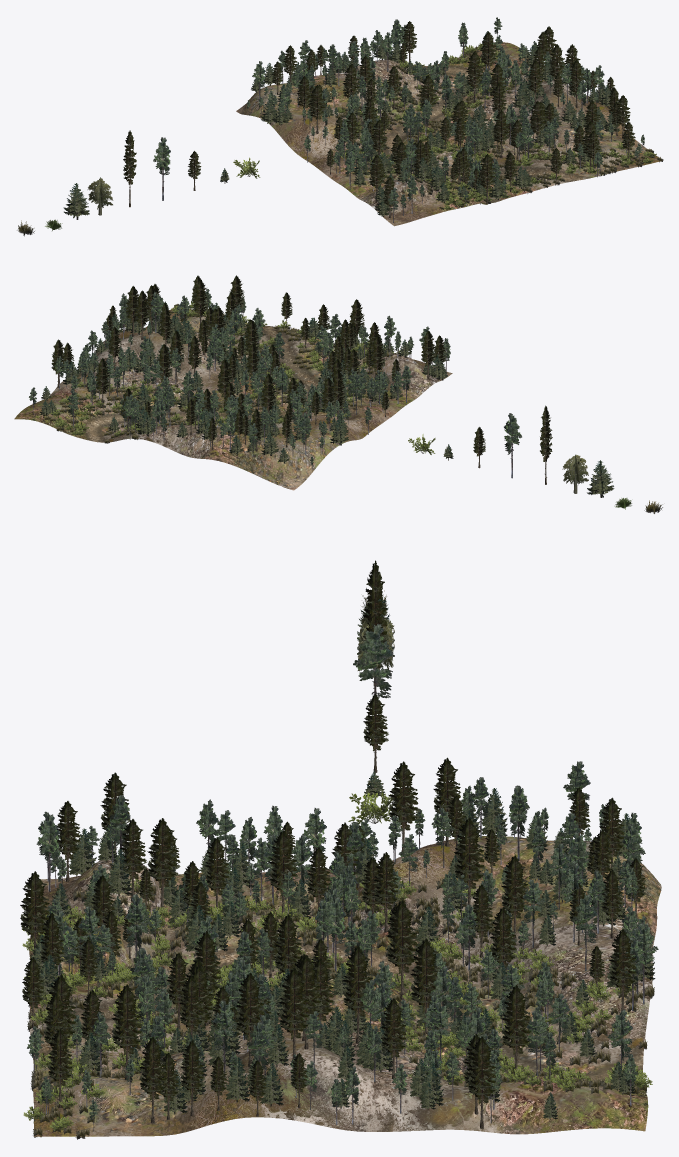
Rendered from forest.gltf.
3 views of the same model, one above another, from view 1: azimuth 30°, elevation 25°; view 2: azimuth 150°, elevation 25°; view 3: azimuth 270°, elevation 25° (orthographic). The views are drawn at different scales.
Visible parts, largest first — view 1: Plane.002, Plane.006, Cylinder.001, Plane.005, 05ade0e713892be558511d706fa6c547-no-bg-preview (carve.photos, Cylinder.058, Cylinder.034, Cylinder.007, Cylinder.049, Cylinder.026, Cylinder.070, Cylinder.004 (+8 smaller); view 2: Plane.002, Plane.006, Plane.005, Cylinder.001, 05ade0e713892be558511d706fa6c547-no-bg-preview (carve.photos, Cylinder.026, Cylinder.070, Cylinder.071, Cylinder.073, Cylinder.004, Cylinder.012, Cylinder.047 (+1 smaller); view 3: Plane.002, 05ade0e713892be558511d706fa6c547-no-bg-preview (carve.photos (×2), Cylinder.047, Cylinder.077, Cylinder.026, Cylinder.071, Cylinder.012, Cylinder.007, Cylinder.070, Cylinder.085, Cylinder.034, Cylinder.058 (+27 smaller).
Part boxes in pixels (box(x1,y1,x2,y2)): Plane.002: box(236, 42, 662, 226); Plane.006: box(87, 177, 113, 215); Cylinder.001: box(123, 130, 136, 207); Plane.005: box(63, 183, 89, 219); 05ade0e713892be558511d706fa6c547-no-bg-preview (carve.photos: box(153, 137, 170, 200); Cylinder.058: box(466, 51, 483, 102); Cylinder.034: box(479, 154, 495, 203); Cylinder.007: box(309, 85, 325, 133); Cylinder.049: box(493, 110, 509, 158); Cylinder.026: box(343, 64, 359, 98); Cylinder.070: box(480, 31, 496, 72); Cylinder.004: box(369, 155, 384, 202); Plane.002: box(14, 307, 452, 490); Plane.006: box(562, 454, 588, 493); Plane.005: box(587, 460, 614, 497); Cylinder.001: box(540, 405, 552, 484); 05ade0e713892be558511d706fa6c547-no-bg-preview (carve.photos: box(504, 413, 521, 478); Cylinder.026: box(261, 373, 276, 414); Cylinder.070: box(95, 358, 110, 407); Cylinder.071: box(193, 279, 208, 328); Cylinder.073: box(135, 290, 150, 339); Cylinder.004: box(421, 330, 435, 379); Cylinder.012: box(370, 335, 385, 382); Cylinder.047: box(217, 359, 232, 411); Plane.002: box(29, 836, 661, 1136); 05ade0e713892be558511d706fa6c547-no-bg-preview (carve.photos (×2): box(125, 623, 393, 957); Cylinder.047: box(386, 900, 418, 1000); Cylinder.077: box(279, 967, 309, 1059); Cylinder.026: box(454, 817, 486, 904); Cylinder.071: box(111, 984, 143, 1080); Cylinder.012: box(147, 818, 178, 910); Cylinder.007: box(388, 761, 420, 857); Cylinder.070: box(501, 985, 532, 1074); Cylinder.085: box(467, 1036, 497, 1129); Cylinder.034: box(20, 871, 49, 954); Cylinder.058: box(410, 938, 440, 1034).
Bounding box in the file's own units: 19.24 × 2.85 × 9.74.
3 materials, 3 textured.
